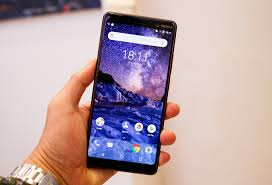nokia: (77, 7, 177, 177)
